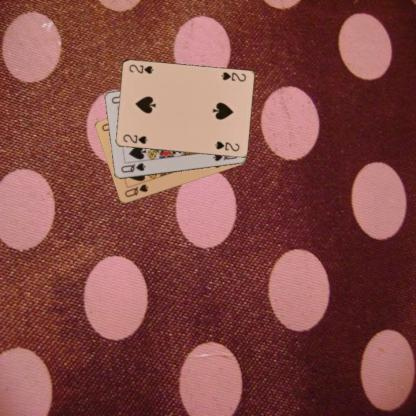2s: (121, 132, 148, 146), (218, 70, 247, 83)
Qs: (122, 181, 150, 199), (118, 160, 146, 174)
